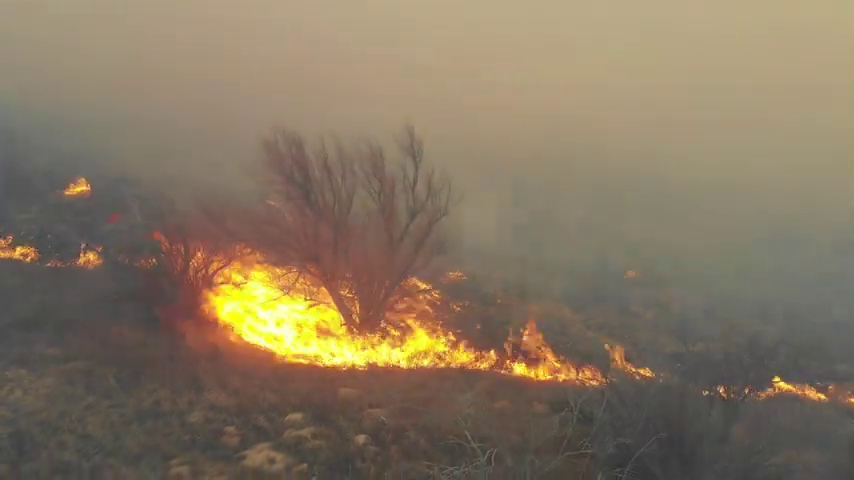forest_fire: (199, 249, 605, 384), (754, 377, 828, 401), (604, 345, 655, 378), (45, 245, 102, 266), (0, 236, 39, 261), (63, 179, 90, 195), (444, 272, 465, 281), (843, 395, 853, 402), (160, 236, 165, 240)
